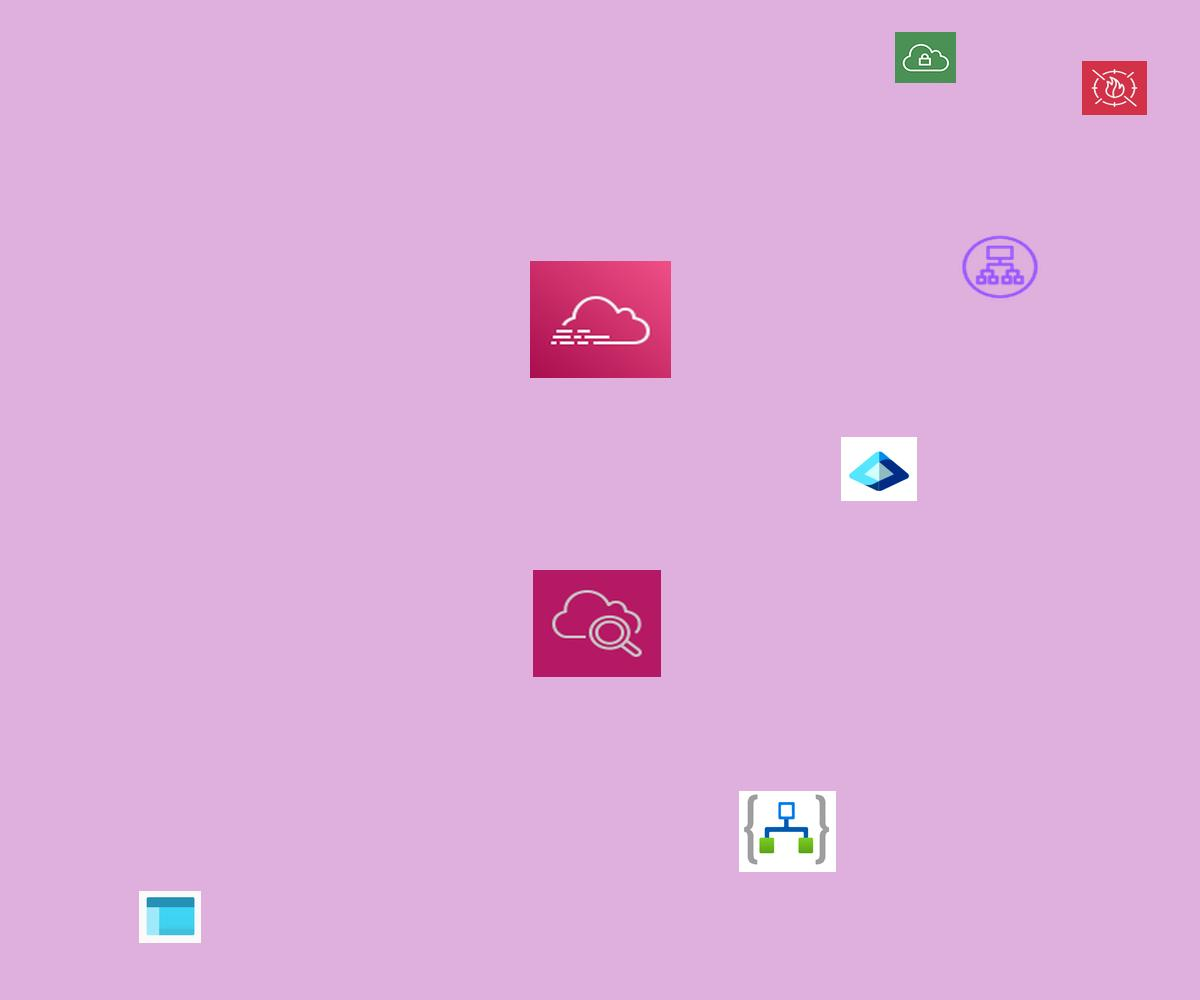AWS-CloudTrail: (530, 261, 671, 378)
AWS-CloudWatch: (533, 570, 661, 677)
AWS-Private_vpc: (895, 32, 956, 83)
AWS-Res_Elastic-Load-Balancing_Application-Load-Balancer: (959, 233, 1041, 301)
AWS-WAF: (1082, 61, 1147, 115)
Azure_integration-204-Logic-Apps: (739, 791, 836, 872)
Azure_management-portal: (139, 891, 201, 943)
Azure_microsoft_entra: (841, 437, 917, 501)
